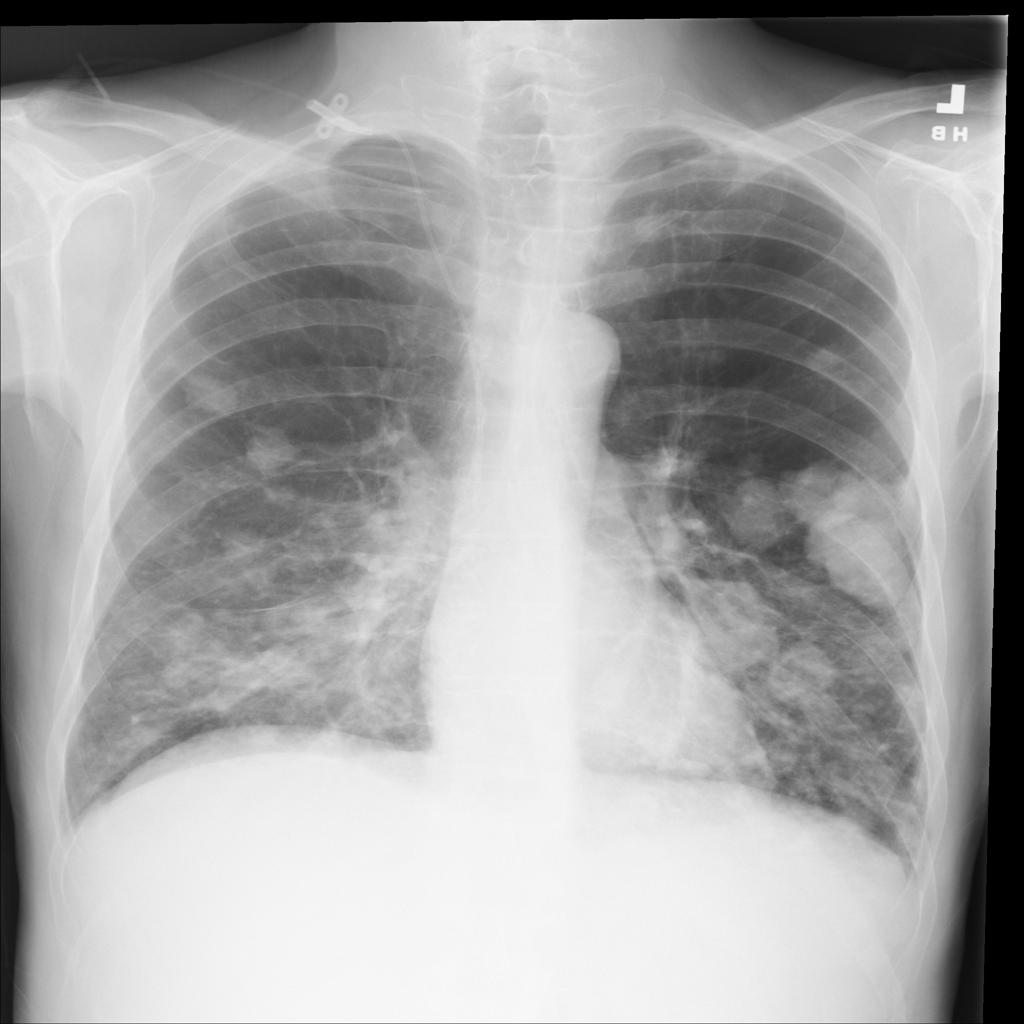nodule: (785, 448, 927, 606), (658, 568, 791, 691), (705, 451, 810, 560), (760, 636, 847, 708), (172, 357, 253, 426), (201, 516, 283, 579), (787, 327, 870, 389), (233, 415, 310, 480), (625, 203, 682, 249), (881, 671, 933, 718)
